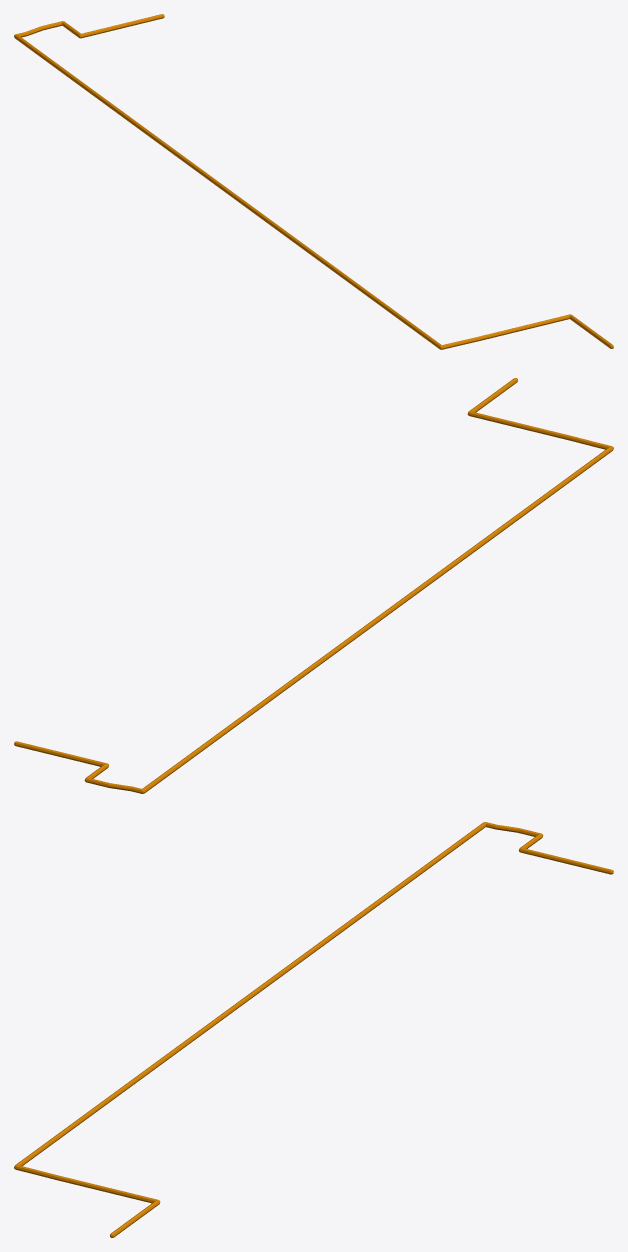
3 views of the same model, one above another, from view 1: azimuth 30°, elevation 25°; view 2: azimuth 150°, elevation 25°; view 3: azimuth 330°, elevation 25° (orthographic). The views are drawn at different scales.
Bounding box in the file's own units: 658 × 20 × 3989.
